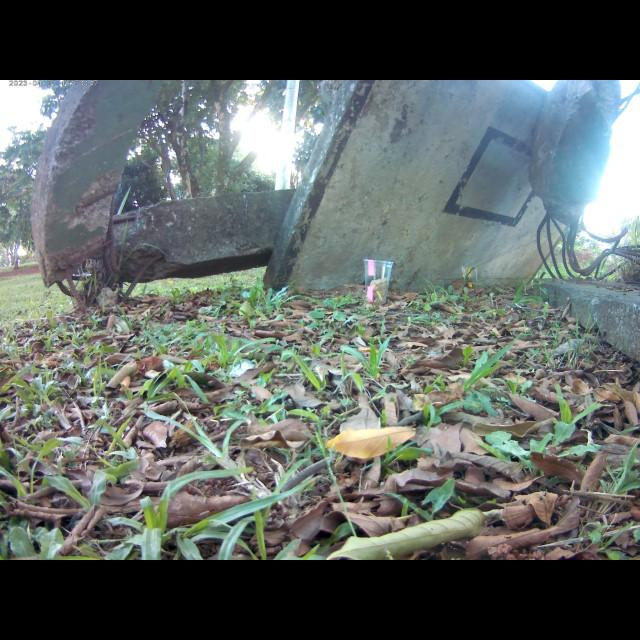detrito: (256, 80, 627, 296), (24, 81, 164, 303), (58, 180, 300, 299), (534, 276, 640, 365)
